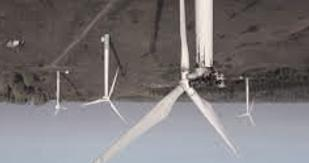faulty: (167, 28, 230, 85)
